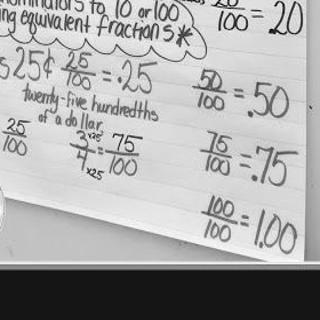.: (243, 108, 257, 121), (249, 171, 259, 185), (114, 74, 122, 86), (257, 240, 264, 252)
0: (270, 84, 291, 119), (279, 221, 297, 258), (265, 211, 281, 251)
1: (253, 204, 266, 248)
2: (265, 1, 288, 37), (285, 1, 304, 37), (119, 59, 138, 94)
5: (268, 144, 300, 189), (136, 61, 161, 96), (252, 79, 270, 121)
7: (254, 141, 273, 187)
